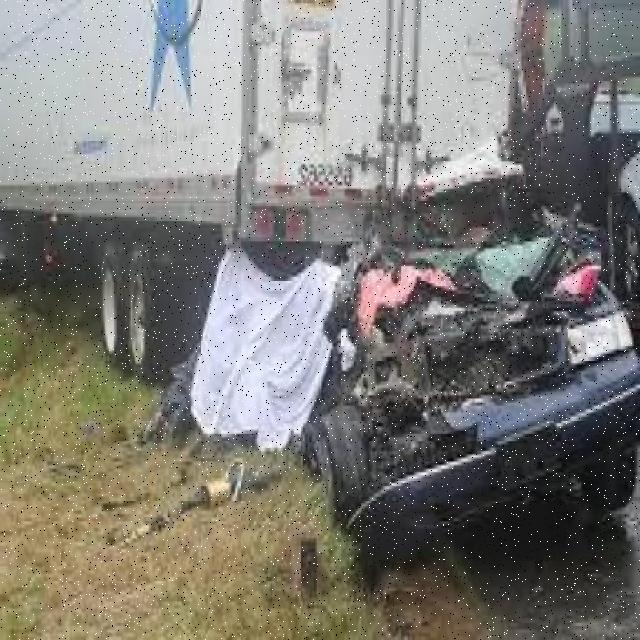damage: (324, 239, 615, 527)
